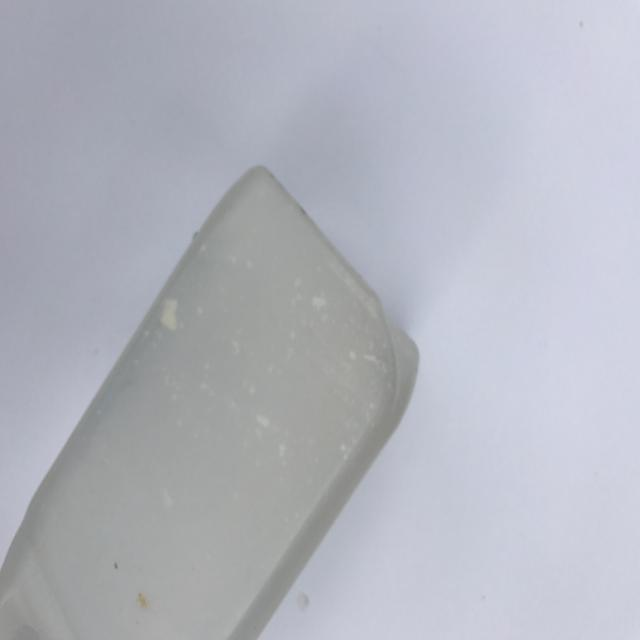plastic: (0, 162, 420, 640)
